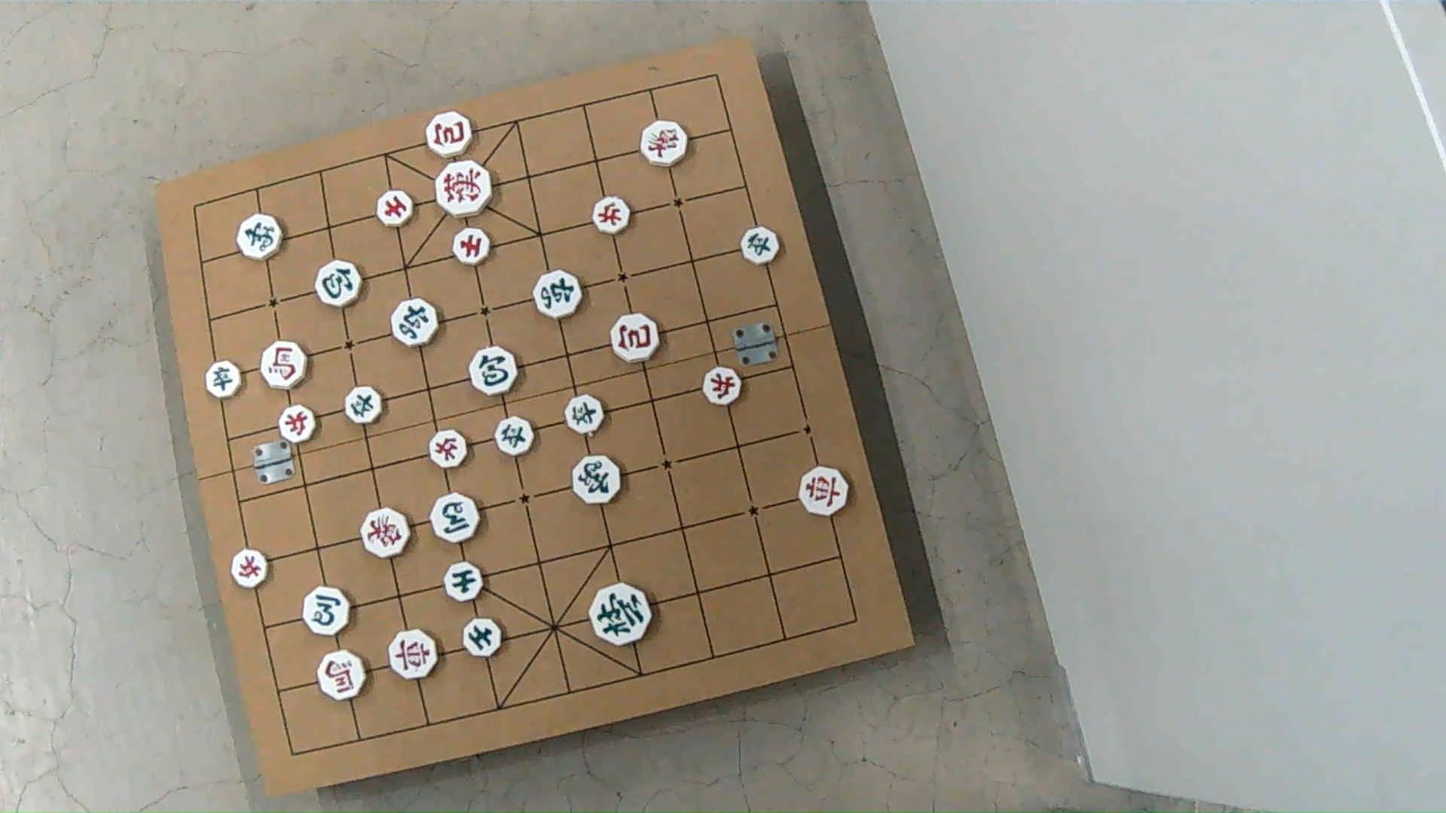cha_green: (532, 269, 581, 317), (390, 297, 438, 346)
cha_red: (798, 468, 848, 517), (389, 631, 438, 680)
jol_green: (494, 416, 534, 456), (565, 394, 603, 434), (740, 226, 777, 263), (345, 386, 381, 424), (206, 361, 242, 398)
jol_red: (703, 367, 741, 406), (429, 431, 468, 468), (230, 549, 267, 588), (593, 197, 630, 235), (282, 405, 319, 443)
ma_green: (432, 495, 480, 544), (303, 589, 351, 636)
ma_red: (318, 652, 366, 701), (261, 343, 307, 391)
po_green: (469, 346, 517, 395), (316, 261, 362, 308)
po_red: (612, 313, 660, 361), (428, 111, 476, 158)
sa_green: (444, 562, 484, 601), (465, 620, 503, 659)
sa_red: (376, 190, 413, 226), (454, 230, 490, 266)
sang_green: (570, 454, 621, 503), (238, 213, 283, 258)
sang_red: (363, 510, 411, 560), (641, 120, 686, 165)
wang_green: (592, 585, 653, 647)
wang_red: (435, 160, 490, 215)
